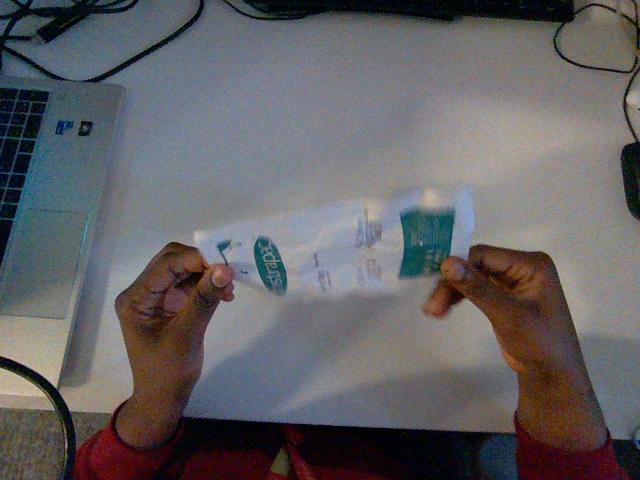gallipot: (195, 187, 473, 297)
